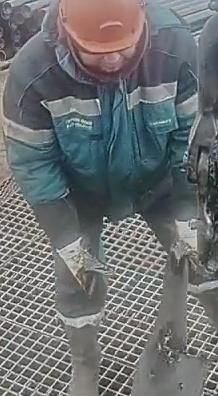gloves: (53, 237, 115, 296), (175, 201, 198, 270)
helmet: (57, 0, 150, 62)
vest: (2, 0, 195, 212)
